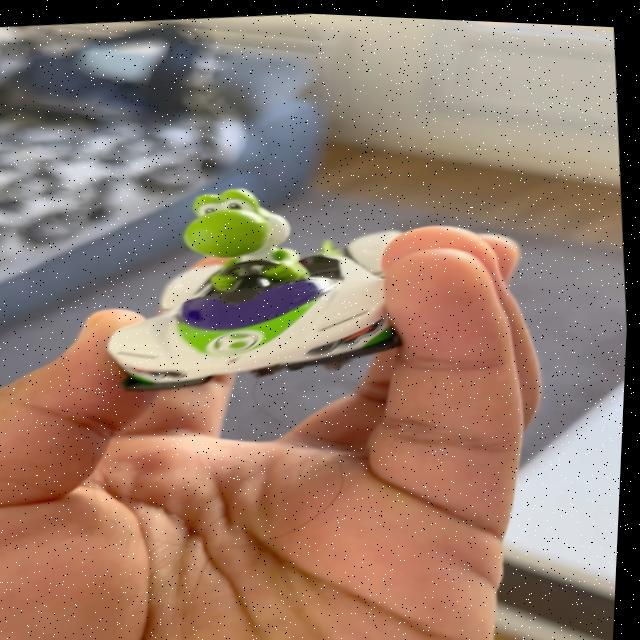yoshi: (77, 150, 429, 407)
